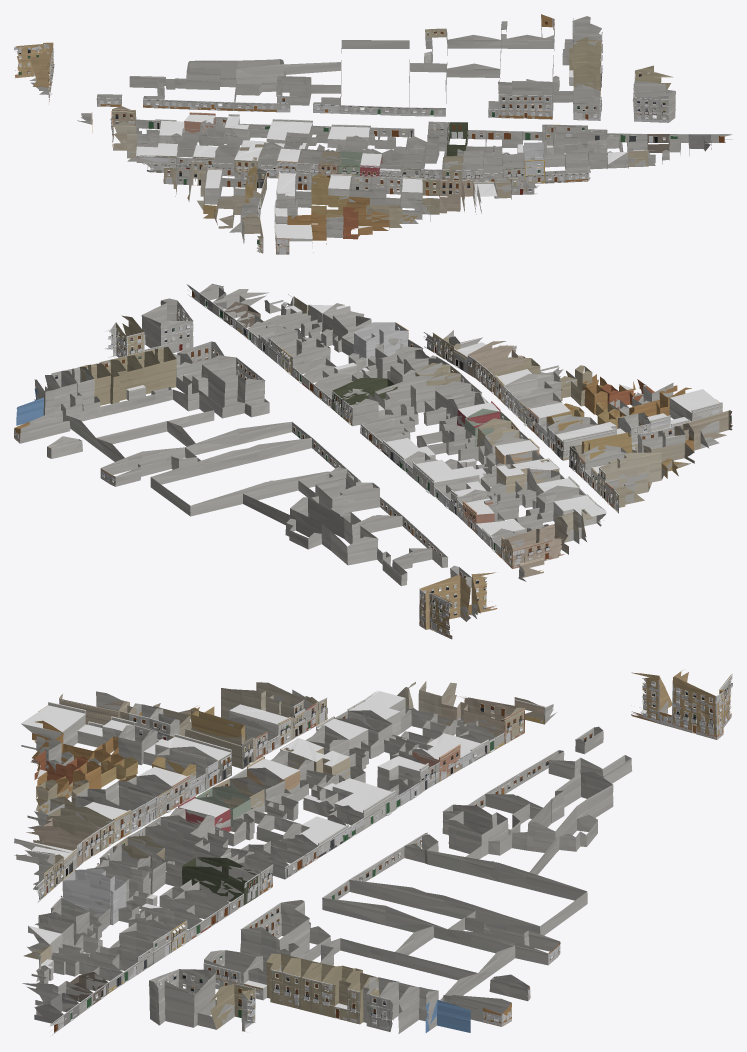
File: zona_0_0.glb
The picture shows the model from 3 angles, top to bottom: view 1: azimuth 30°, elevation 25°; view 2: azimuth 150°, elevation 25°; view 3: azimuth 270°, elevation 25°; orthographic projection. The views are drawn at different scales.
Visible parts, largest first — view 1: z_casas_0_0, z_fachadas_0_0, z_casas_planas_0_0; view 2: z_casas_0_0, z_casas_planas_0_0, z_fachadas_0_0; view 3: z_casas_0_0, z_casas_planas_0_0, z_fachadas_0_0.
Boxes of the visible parts, <box> form: z_casas_0_0: <box>15,14,731,253</box>; z_fachadas_0_0: <box>14,19,732,254</box>; z_casas_planas_0_0: <box>136,70,648,254</box>; z_casas_0_0: <box>14,283,731,639</box>; z_casas_planas_0_0: <box>126,297,722,546</box>; z_fachadas_0_0: <box>14,285,732,638</box>; z_casas_0_0: <box>22,670,731,1036</box>; z_casas_planas_0_0: <box>14,691,483,1020</box>; z_fachadas_0_0: <box>36,674,732,1032</box>.
Bounding box in the file's own units: 207 × 15.09 × 194.
